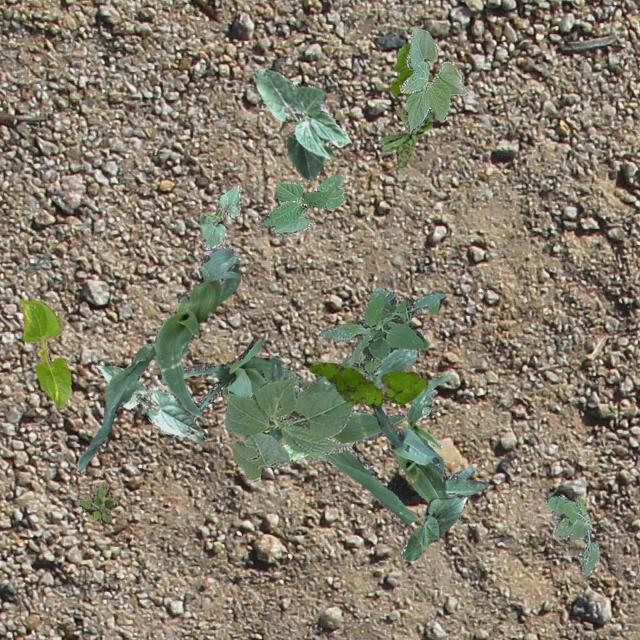crop: (74, 242, 240, 470), (268, 328, 426, 522), (224, 374, 352, 481), (372, 404, 486, 522), (160, 338, 306, 420), (252, 66, 348, 180), (94, 362, 206, 442), (398, 26, 466, 130), (17, 298, 70, 407), (258, 172, 344, 234), (398, 494, 466, 560), (406, 372, 452, 448), (198, 184, 240, 248), (282, 442, 308, 460)
weed: (320, 286, 444, 384), (309, 362, 427, 406), (544, 494, 598, 574), (378, 104, 434, 170), (76, 482, 116, 522), (389, 42, 412, 102)
